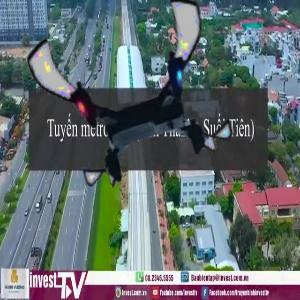drone: (38, 1, 224, 187)
